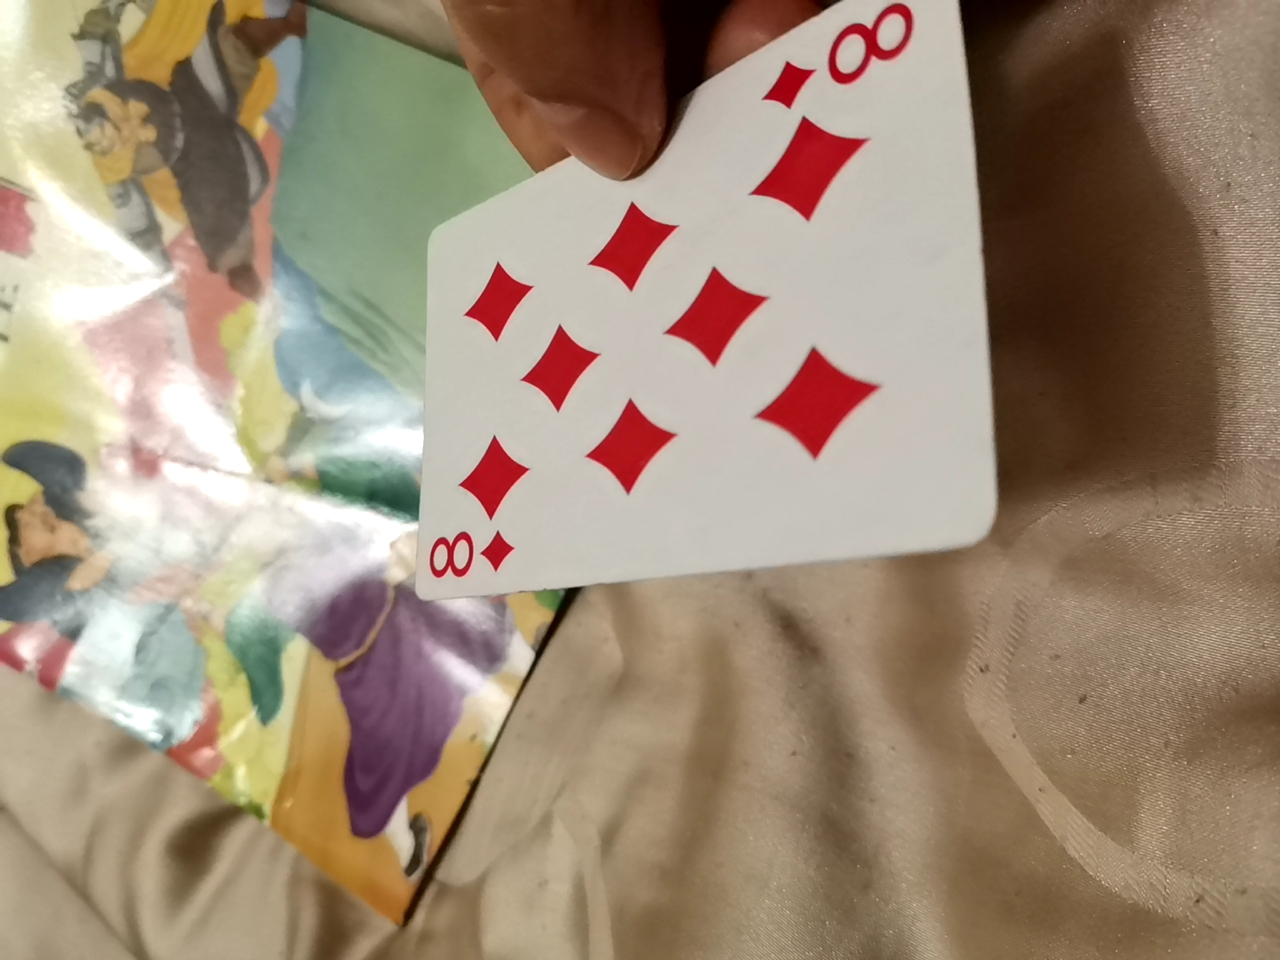fk 8: (377, 10, 1010, 610)
